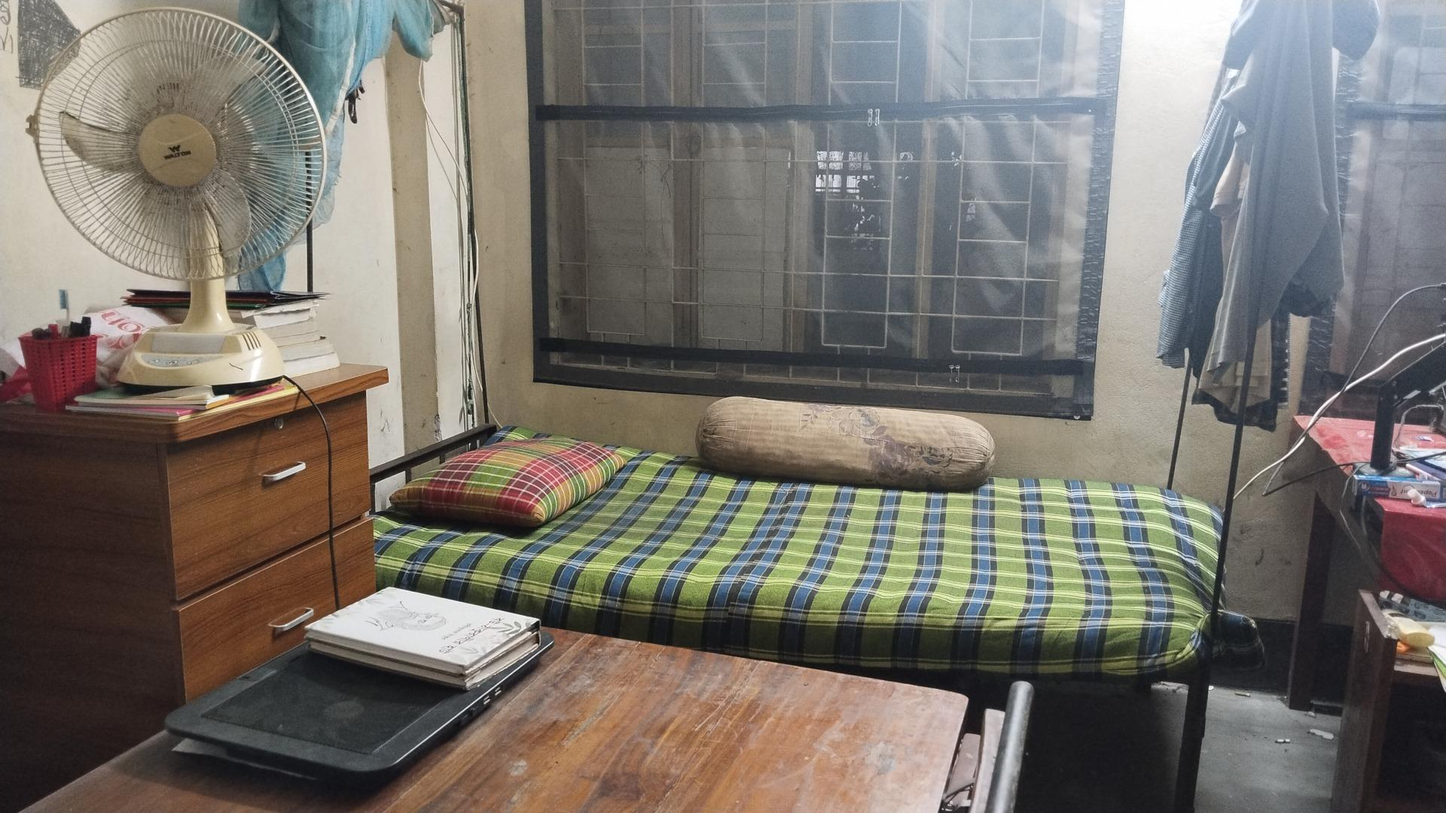Book: (304, 580, 541, 693)
Fan: (39, 9, 328, 388)
Pillow: (699, 398, 994, 489), (396, 431, 627, 521)
Window: (932, 4, 1074, 388), (538, 2, 683, 364), (806, 4, 928, 380), (687, 2, 803, 371)
